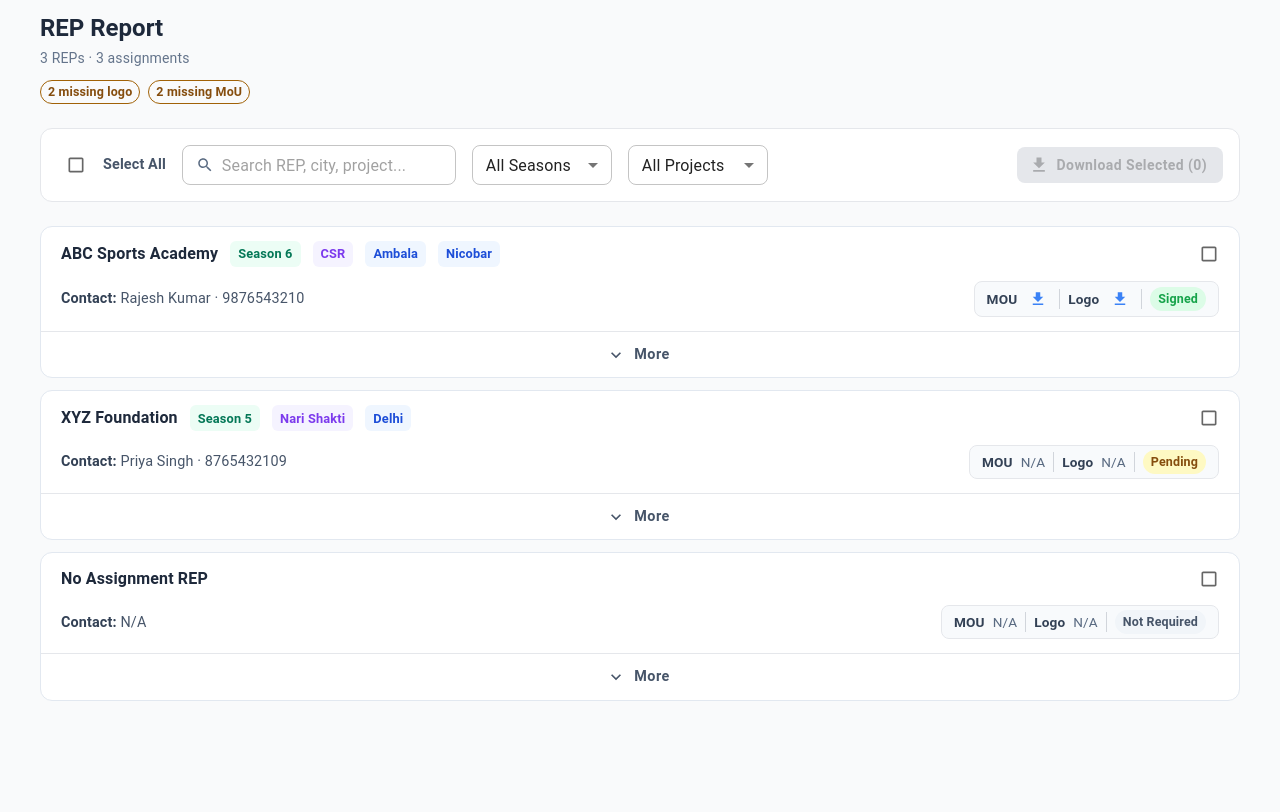
Test: SocialMediaReport › expanded card shows "No assignments" when none exist
This screenshot has width=1280, height=812.
Check: the text "No Assignment REP" is shown, box [61, 567, 208, 591]
Step 1. Click the button "More" below "Not Required" → (640, 676), box [41, 653, 1239, 700]
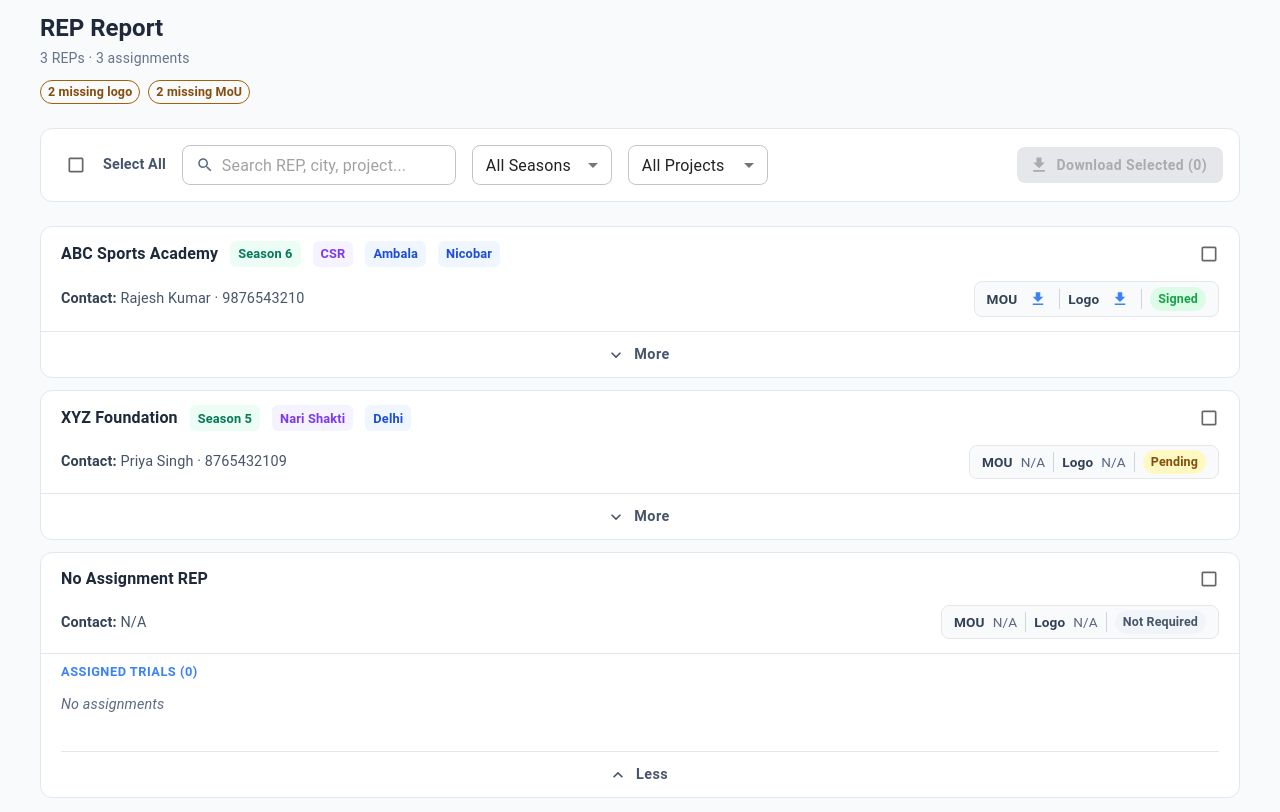
Check: the text "No assignments" is shown, box [61, 696, 164, 713]
